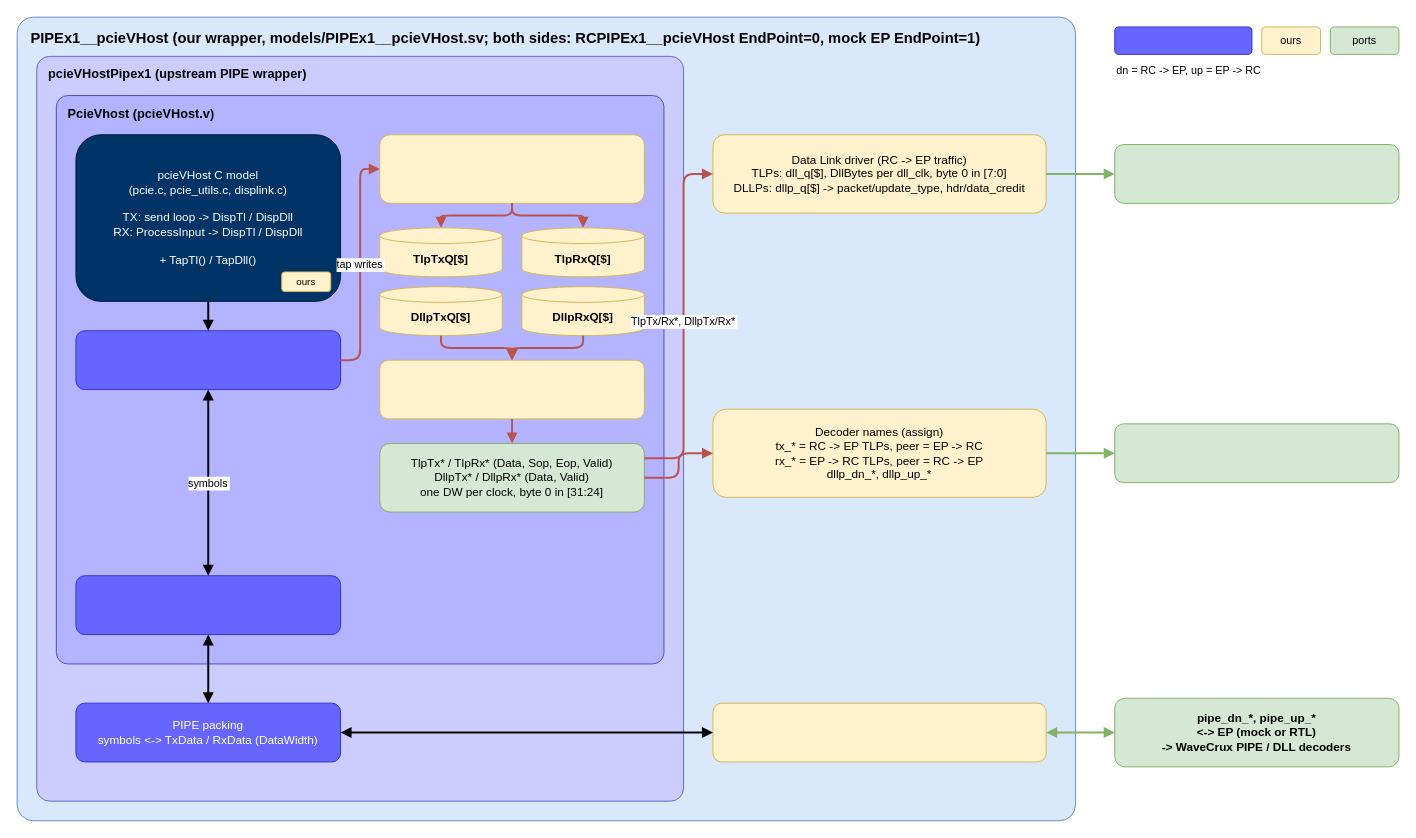
Some shapes in this 1416 by 838 pixel diagram are drawn without their labels. Each missing label, with the centre of its shape:
"always @(posedge Clk) pop_front(): one entry per clock" belongs at pixel 511 389.
"always @(Update) case (Addr): TAP_TLP_TX_SOP .. TAP_DLLP_RX -> push_back()" belongs at pixel 511 168.
"dll_rx_* (TLPs, DLLP credits) -> TL under test (dll_if RX)" belongs at pixel 1256 173.
"LinkOut0 / LinkIn0 8b/10b symbols, x1 lane" belongs at pixel 208 605.
"pipe_dn_* / pipe_up_* (pclk, data, datak)" belongs at pixel 879 732.
"tx_*, rx_*, dllp_* -> WaveCrux TLP decoder, DLLP rows" belongs at pixel 1256 453.
"upstream (wyvernSemi)" belongs at pixel 1183 40.
"VProc (node 1: RC, node 2: mock EP) VWrite(TAP_*, word, delta=1): zero time" belongs at pixel 208 360.
